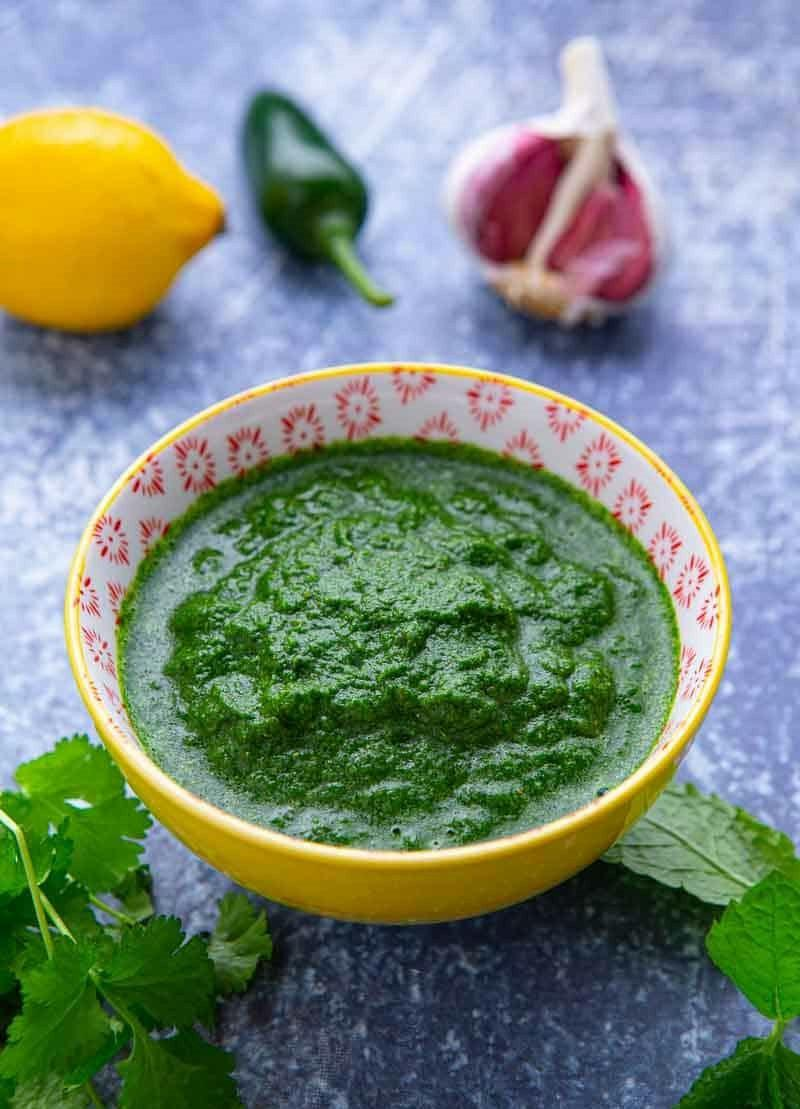GreenChutney: (116, 439, 678, 846)
